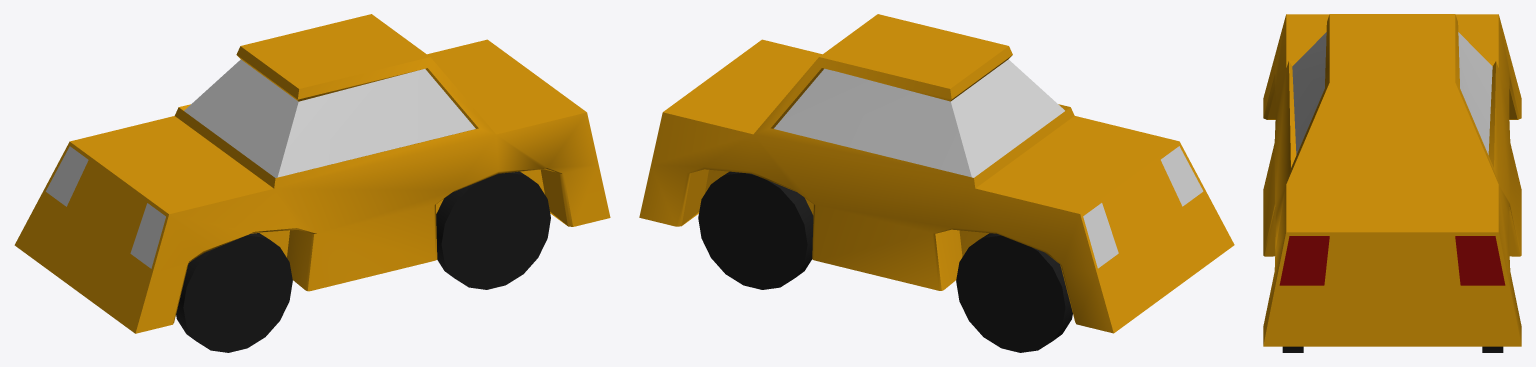
File: Voiture2.FBX
3 renders of one model, left to right at view 1: azimuth 30°, elevation 25°; view 2: azimuth 150°, elevation 25°; view 3: azimuth 270°, elevation 25°, orthographic. The views are drawn at different scales.
Parts seen in each view (by area): view 1: Box006; view 2: Box006; view 3: Box006.
Boxes of the visible parts, bbox=[...] form: Box006: bbox=[14, 14, 610, 352]; Box006: bbox=[639, 14, 1234, 352]; Box006: bbox=[1263, 14, 1521, 352].
Size of the model in its own units: 54.67 by 24.77 by 24.11.
